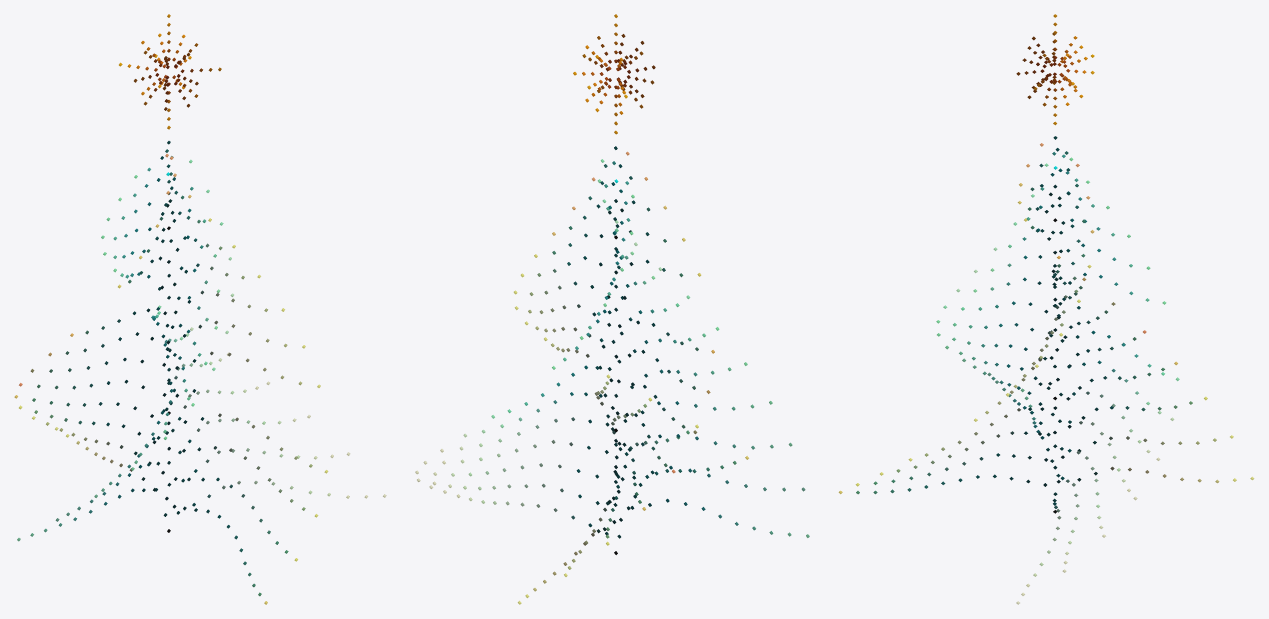
File: spiral-plane-christmas-tree-firefly-drone-show.glb
3 views of the same model, side by side, from view 1: azimuth 30°, elevation 25°; view 2: azimuth 150°, elevation 25°; view 3: azimuth 270°, elevation 25° (orthographic). The views are drawn at different scales.
Visible parts, largest first — view 1: drone_show_1; view 2: drone_show_1; view 3: drone_show_1.
Part boxes in pixels (x1,y1,x2,y2): drone_show_1: (14, 14, 386, 604); drone_show_1: (415, 14, 809, 604); drone_show_1: (838, 14, 1254, 604).
Size of the model in its own units: 111 by 150 by 113.
